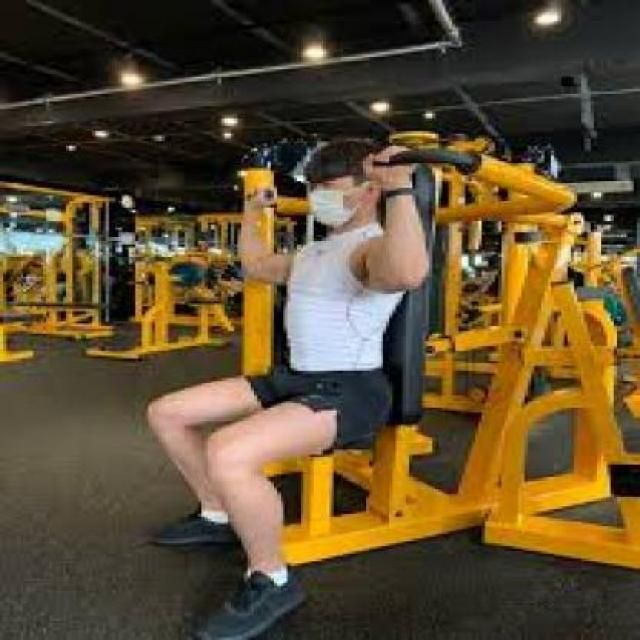shoulder press machine: (120, 123, 640, 639)
